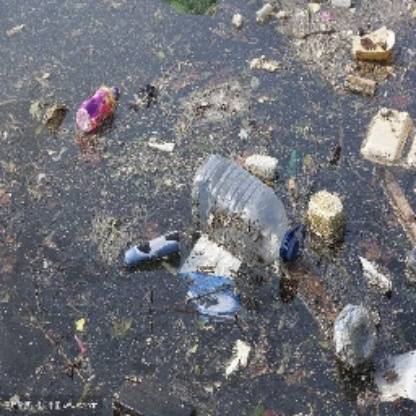bottle: (193, 148, 308, 265), (73, 82, 124, 138)
plastic-garbage: (359, 102, 416, 175)
